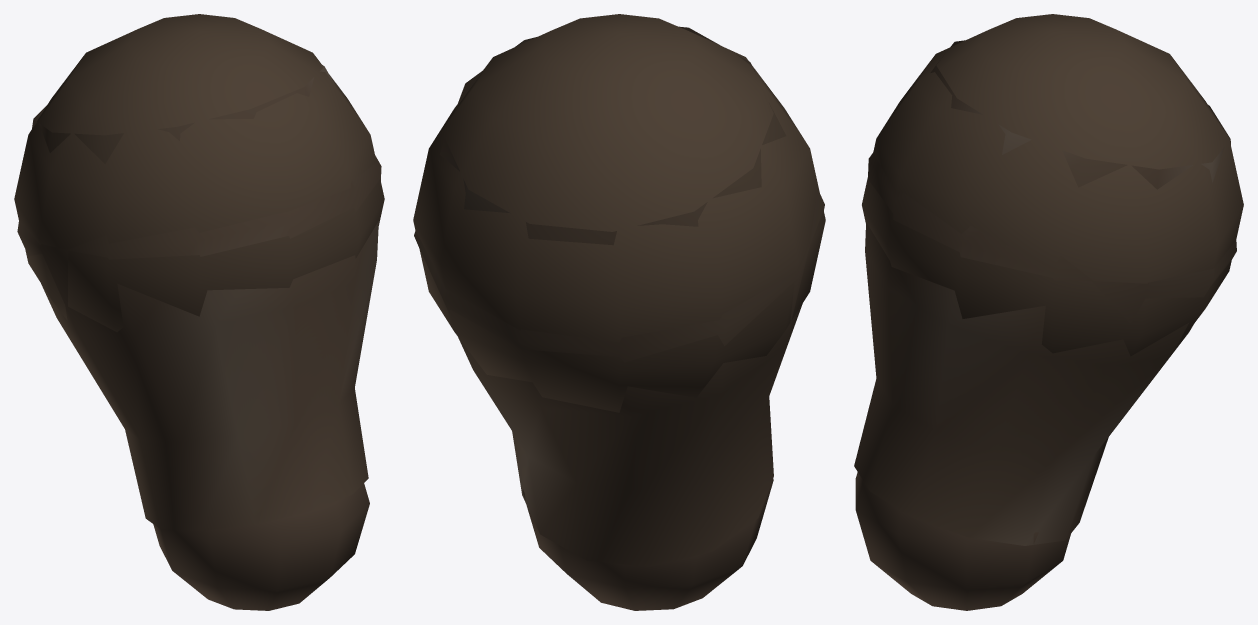
File: Inoshishi_Limb2U.fbx
3 renders of one model, left to right at view 1: azimuth 30°, elevation 25°; view 2: azimuth 150°, elevation 25°; view 3: azimuth 270°, elevation 25°, orthographic. The views are drawn at different scales.
Parts seen in each view (by area): view 1: Inoshishi_Limb2U; view 2: Inoshishi_Limb2U; view 3: Inoshishi_Limb2U.
Part boxes in pixels (x1,y1,x2,y2): Inoshishi_Limb2U: (14, 14, 384, 610); Inoshishi_Limb2U: (413, 14, 825, 610); Inoshishi_Limb2U: (854, 14, 1243, 610).
Bounding box in the file's own units: 8 × 12.95 × 8.16.
